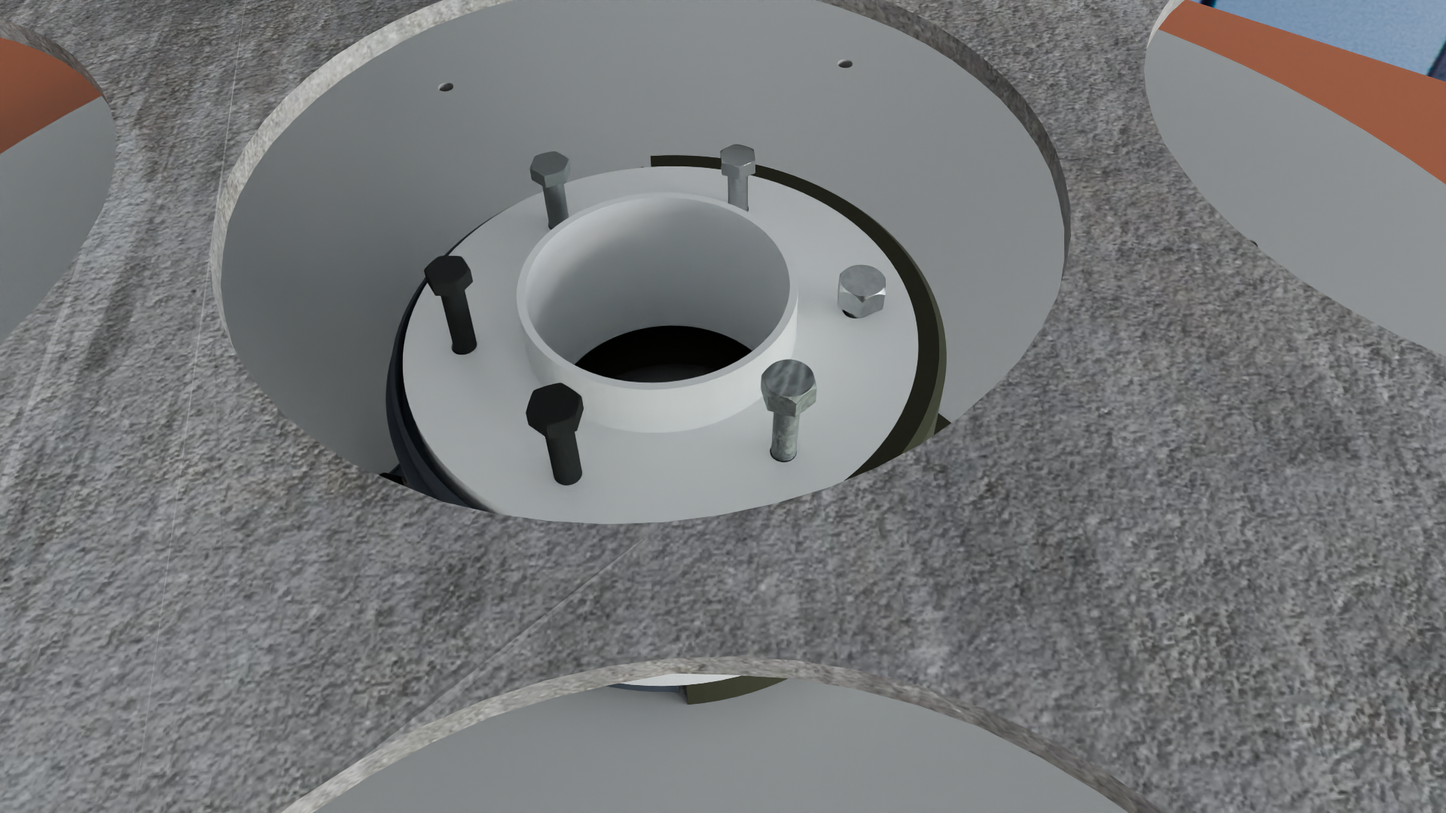bolt: (526, 382, 581, 427), (761, 359, 817, 403), (840, 265, 886, 303), (424, 256, 471, 285), (530, 151, 569, 177), (720, 144, 755, 169)
